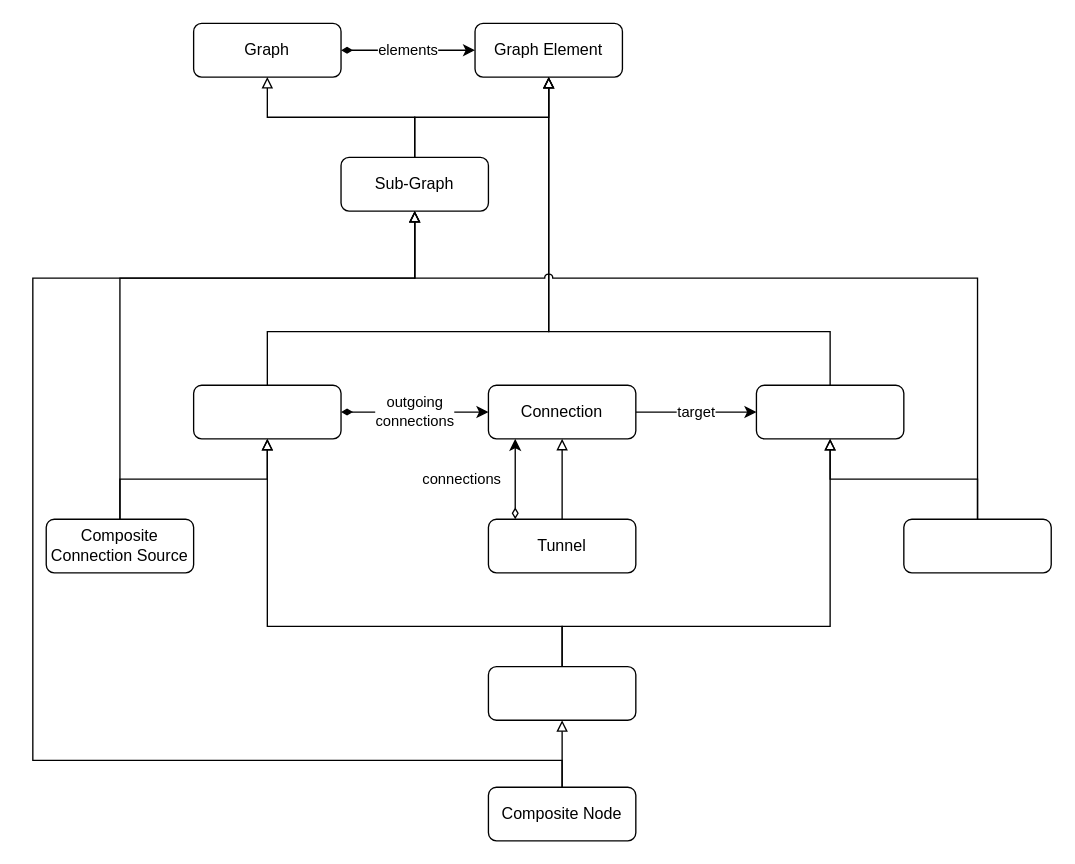
The diagram is 1075 pixels wide and 864 high, and some of its shapes have lost their labels. The centre of each missing label's shape, as x and y in pixels:
Composite Connection Target: (x=976, y=545)
Connection Source: (x=266, y=411)
Connection Target: (x=829, y=411)
Node: (x=561, y=692)
